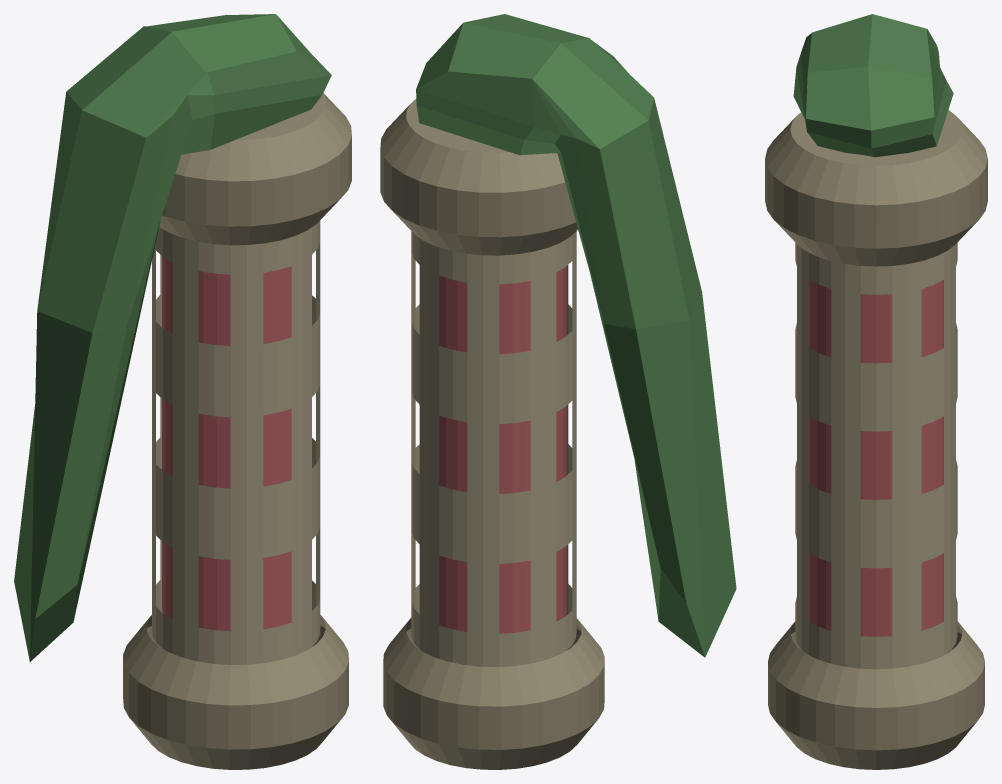
The model's file is Flash1.fbx.
The picture shows the model from 3 angles, left to right: view 1: azimuth 30°, elevation 25°; view 2: azimuth 150°, elevation 25°; view 3: azimuth 270°, elevation 25°; orthographic projection. The views are drawn at different scales.
Visible parts, largest first — view 1: Krychle, Válec, Válec.002, Válec.001, Válec.003; view 2: Krychle, Válec, Válec.002, Válec.001, Válec.003; view 3: Válec, Válec.001, Válec.002, Krychle, Válec.003.
Boxes of the visible parts, bbox=[...] form: Krychle: bbox=[14, 14, 331, 661]; Válec: bbox=[152, 220, 320, 664]; Válec.002: bbox=[123, 615, 348, 769]; Válec.001: bbox=[159, 93, 351, 245]; Válec.003: bbox=[162, 256, 291, 631]; Krychle: bbox=[416, 14, 736, 657]; Válec: bbox=[411, 231, 576, 666]; Válec.002: bbox=[383, 618, 604, 769]; Válec.001: bbox=[380, 99, 577, 255]; Válec.003: bbox=[439, 266, 566, 633]; Válec: bbox=[795, 243, 957, 669]; Válec.001: bbox=[765, 110, 987, 266]; Válec.002: bbox=[768, 621, 984, 769]; Krychle: bbox=[793, 14, 953, 157]; Válec.003: bbox=[809, 280, 943, 636].
Size of the model in its own units: 418 by 883 by 259.
